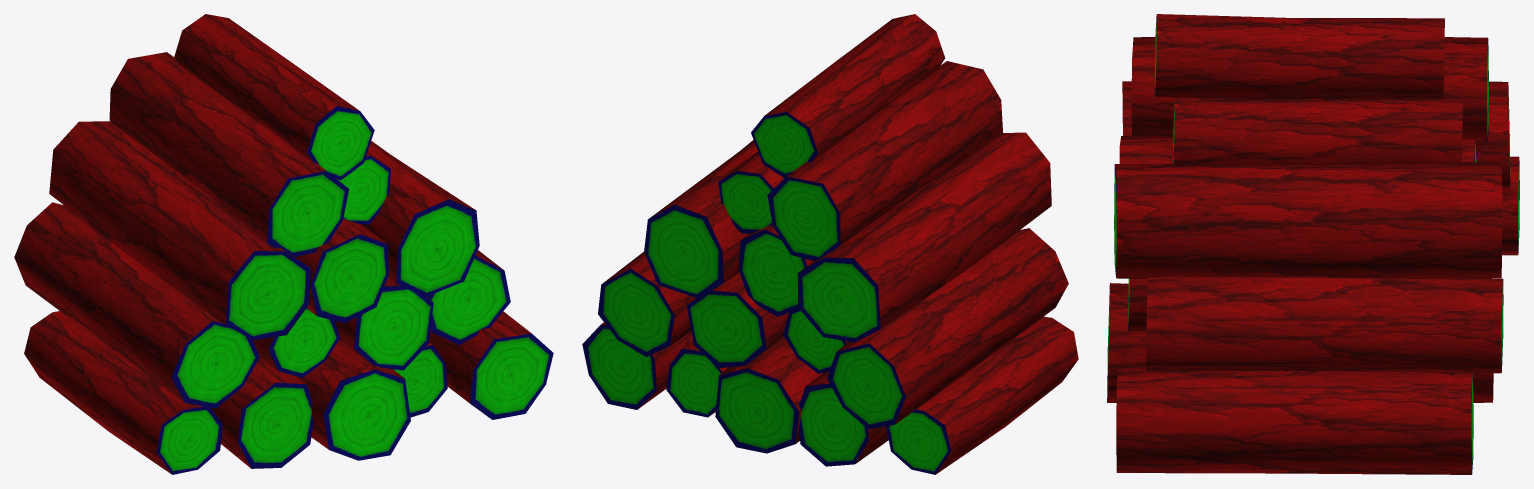
Rendered from FirewoodPile04.fbx.
3 views of the same model, side by side, from view 1: azimuth 30°, elevation 25°; view 2: azimuth 150°, elevation 25°; view 3: azimuth 270°, elevation 25° (orthographic). The views are drawn at different scales.
Parts seen in each view (by area): view 1: FirewoodPile04_LOD0; view 2: FirewoodPile04_LOD0; view 3: FirewoodPile04_LOD0.
Part boxes in pixels (x1=…): FirewoodPile04_LOD0: x1=14, y1=14, x2=553, y2=474; FirewoodPile04_LOD0: x1=582, y1=14, x2=1078, y2=474; FirewoodPile04_LOD0: x1=1107, y1=14, x2=1519, y2=474.
Size of what is drawn, in the model's own units: 1.06 by 0.9178 by 0.9216.
